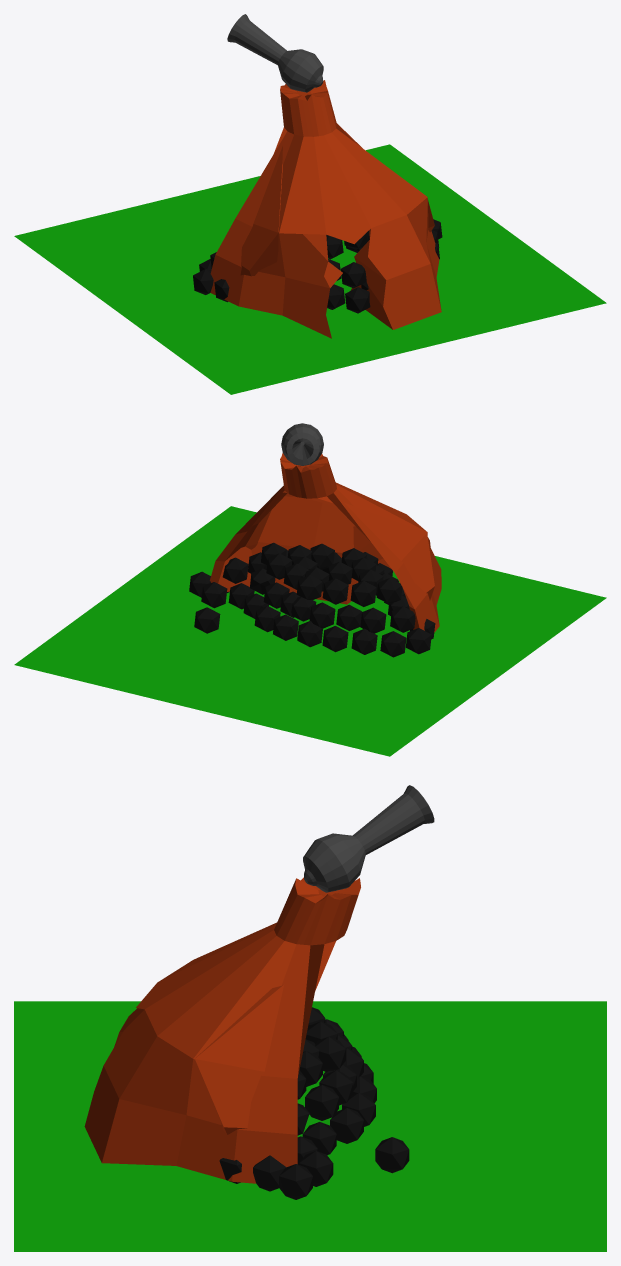
File: canontowermodified.obj
The picture shows the model from 3 angles, top to bottom: view 1: azimuth 30°, elevation 25°; view 2: azimuth 150°, elevation 25°; view 3: azimuth 270°, elevation 25°; orthographic projection. The views are drawn at different scales.
Visible parts, largest first — view 1: land_Plane, ship_Cylinder, ball_Icosphere, Canon_Cylinder.002; view 2: land_Plane, ball_Icosphere, ship_Cylinder, Canon_Cylinder.002; view 3: land_Plane, ship_Cylinder, ball_Icosphere, Canon_Cylinder.002.
Boxes of the visible parts, x1,y1,x2,y2 form: land_Plane: (14, 144, 606, 394); ship_Cylinder: (210, 80, 441, 338); ball_Icosphere: (193, 219, 442, 313); Canon_Cylinder.002: (227, 14, 323, 92); land_Plane: (14, 506, 606, 756); ball_Icosphere: (189, 542, 435, 657); ship_Cylinder: (210, 453, 441, 632); Canon_Cylinder.002: (281, 423, 323, 465); land_Plane: (14, 1001, 606, 1251); ship_Cylinder: (84, 877, 360, 1183); ball_Icosphere: (219, 1007, 409, 1199); Canon_Cylinder.002: (303, 785, 434, 892).
Bounding box in the file's own units: 15.75 × 9.37 × 15.75.
